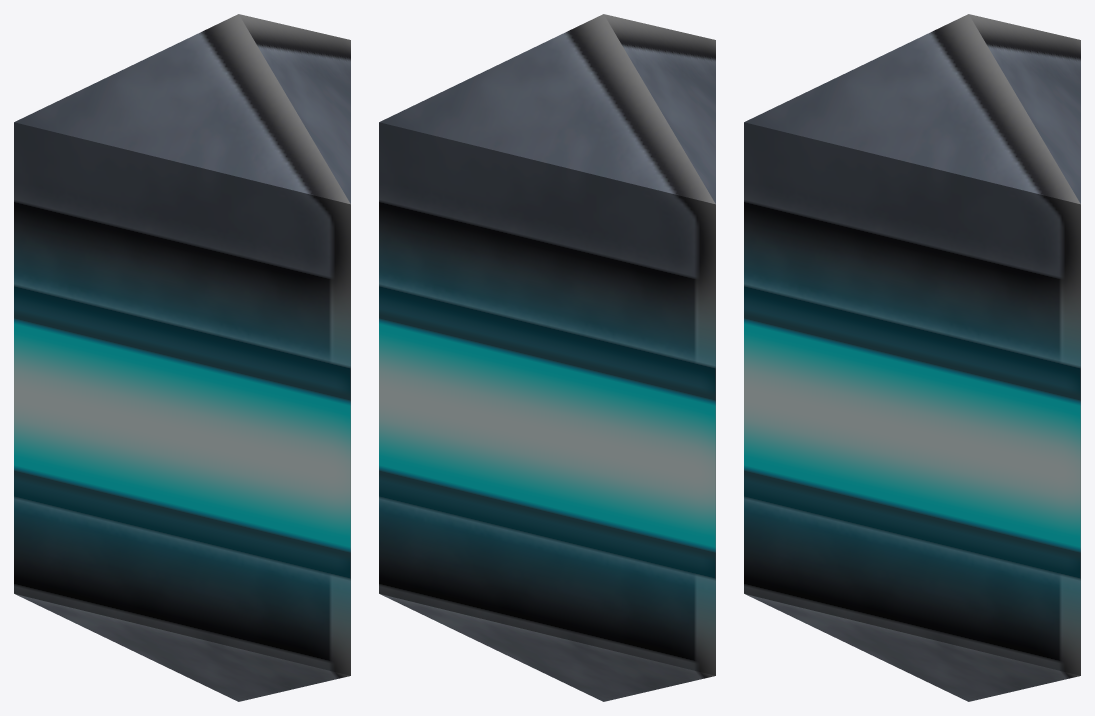
The model's file is track_all_game_buoy_01.fbx.
The picture shows the model from 3 angles, left to right: view 1: azimuth 30°, elevation 25°; view 2: azimuth 150°, elevation 25°; view 3: azimuth 270°, elevation 25°; orthographic projection.
Visible parts, largest first — view 1: track_all_game_buoy_01; view 2: track_all_game_buoy_01; view 3: track_all_game_buoy_01.
Part boxes in pixels (x1,y1,x2,y2): track_all_game_buoy_01: (14,14,350,701); track_all_game_buoy_01: (379,14,715,701); track_all_game_buoy_01: (744,14,1080,701).
Bounding box in the file's own units: 1.06 × 2.07 × 0.9167.
